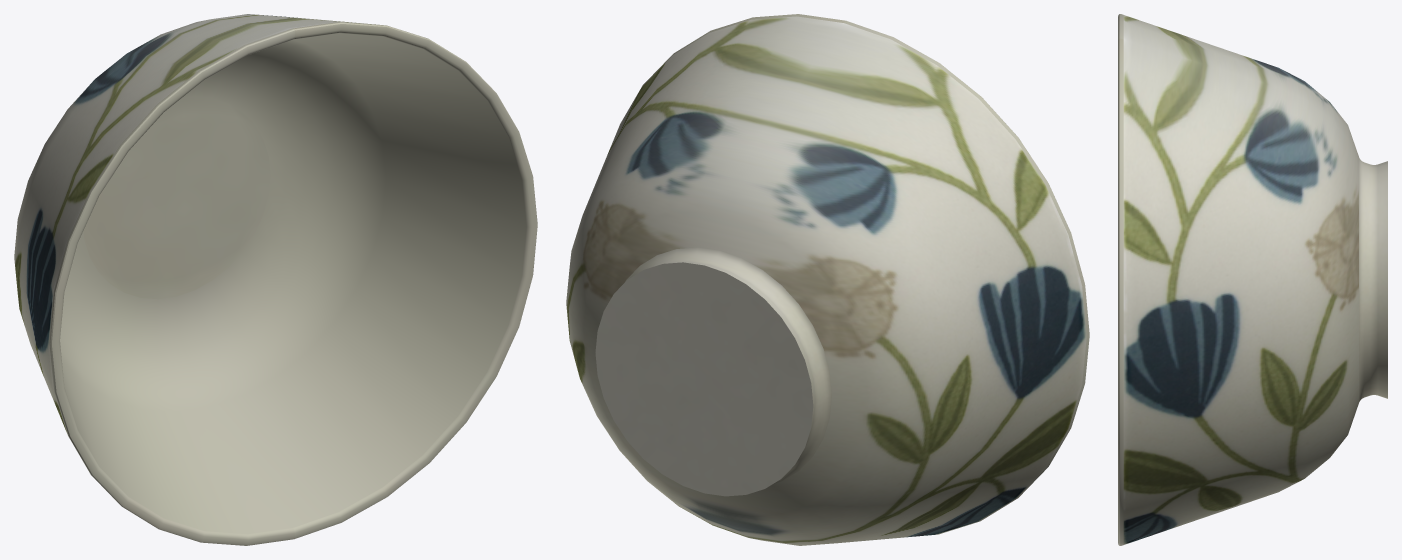
The picture shows the model from 3 angles, left to right: view 1: azimuth 30°, elevation 25°; view 2: azimuth 150°, elevation 25°; view 3: azimuth 270°, elevation 25°; orthographic projection. The views are drawn at different scales.
Bounding box in the file's own units: 1 × 1 × 0.5065.
Materials: 1 (1 with a texture image).
